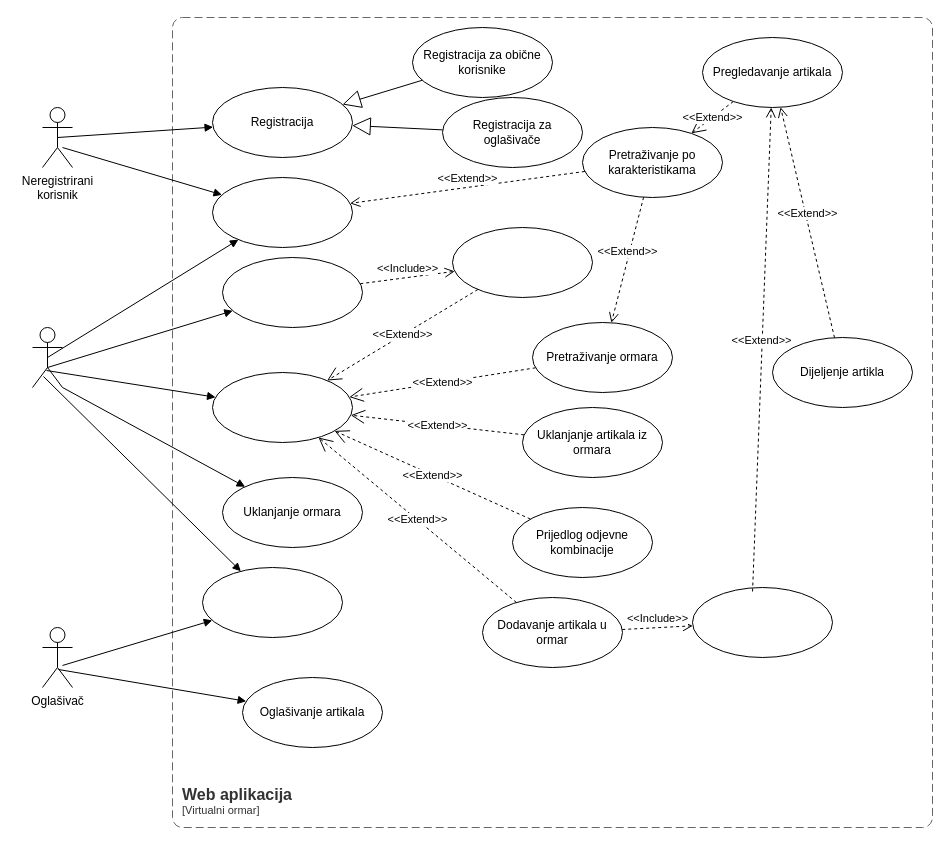
This 950x845 diagram has some shape labels left out. Here are the shapes that lost their labels. From the top down, the centre of each, then its label:
the point at 282,212: Pretraživanje artikala označenih za dijeljenje
the point at 522,262: Definiranje strukture ormara
the point at 292,292: Dodavanje ormara
the point at 47,357: Registrirani korisnik
the point at 282,407: Pregled ormara
the point at 272,602: Prijava
the point at 762,622: Definiranje karakteristika artikla
